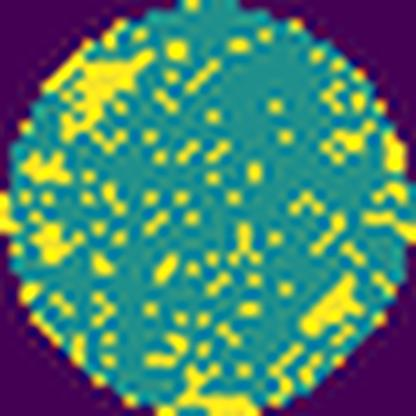Loc: (45, 42, 159, 146), (300, 273, 366, 337), (174, 364, 255, 416), (30, 225, 83, 273), (22, 148, 74, 188)
